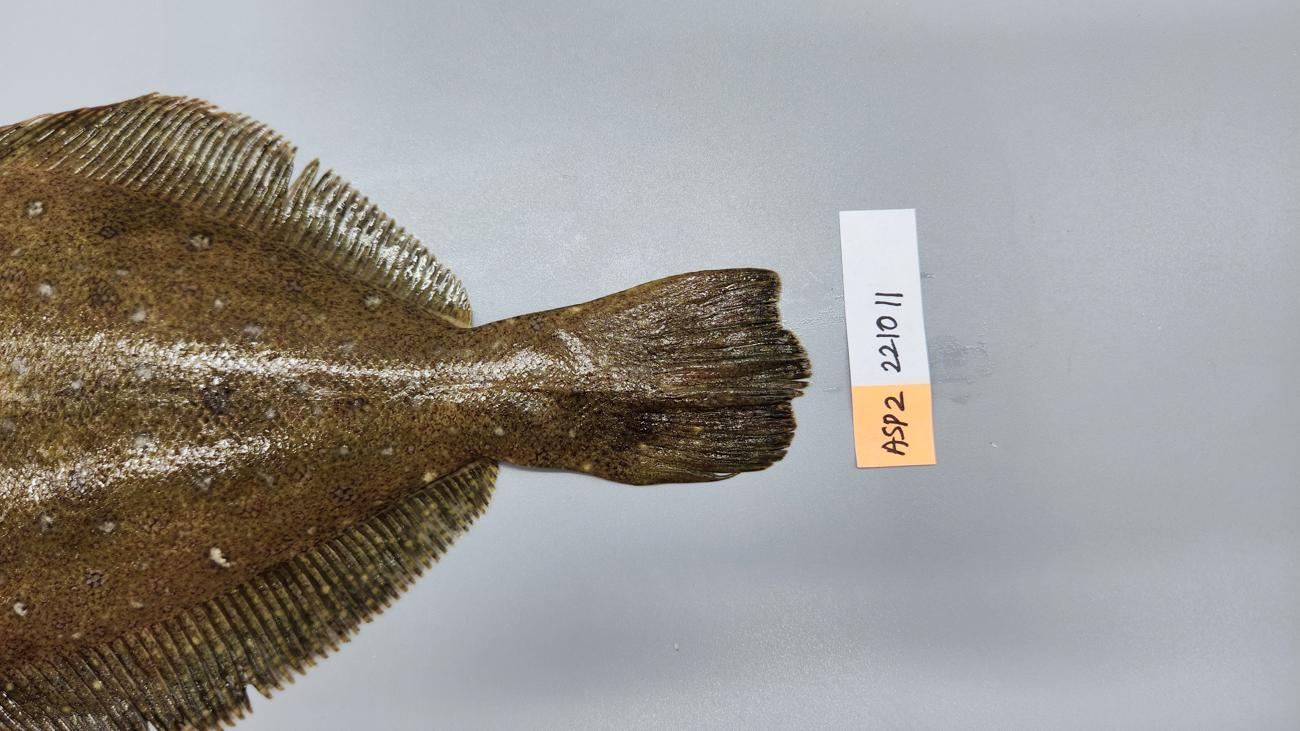SPFAH: (1, 573, 266, 730)
